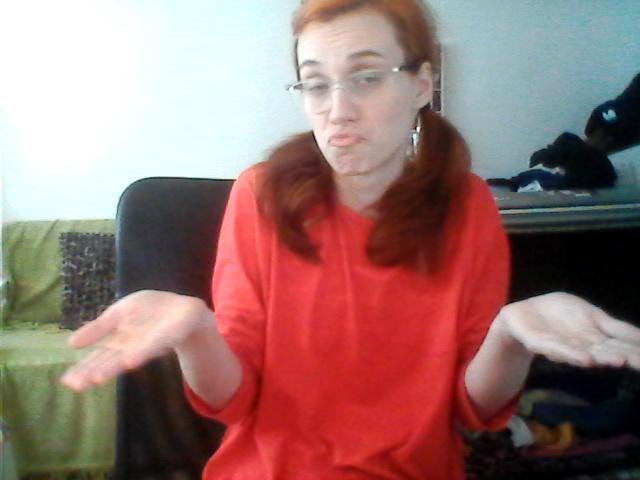alebo: (58, 287, 640, 394)
